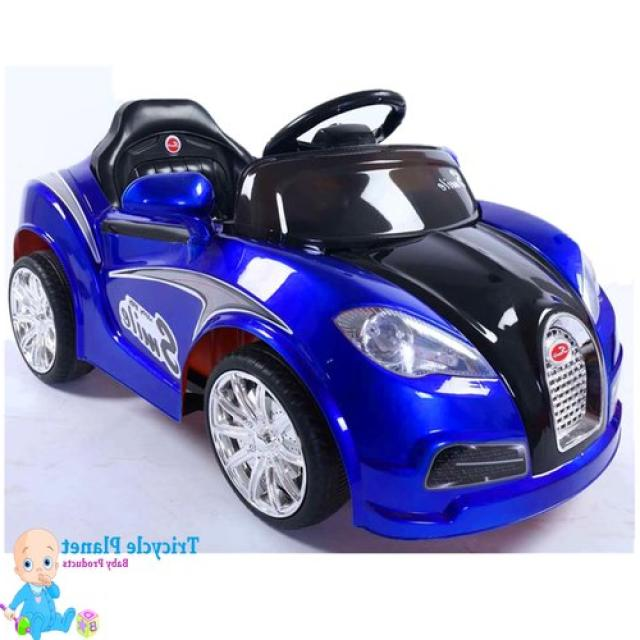Car: (9, 87, 626, 540)
